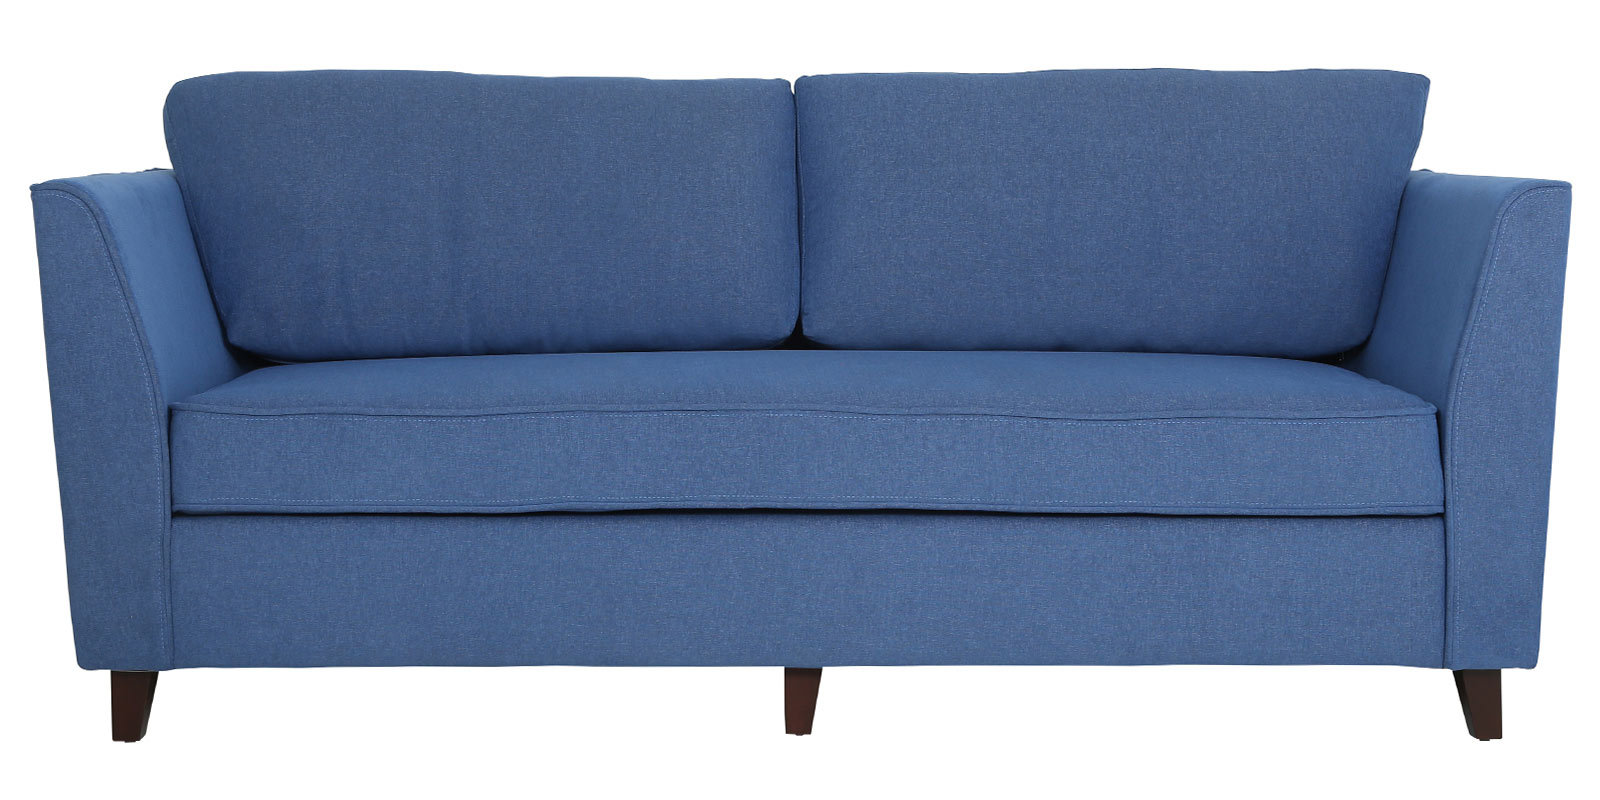Miranda Three Seater Sofa in Denim Blue Colour by CasaCraft: (30, 69, 1572, 742)
